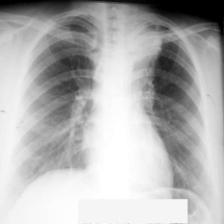tuberculosis: (11, 5, 215, 224)
